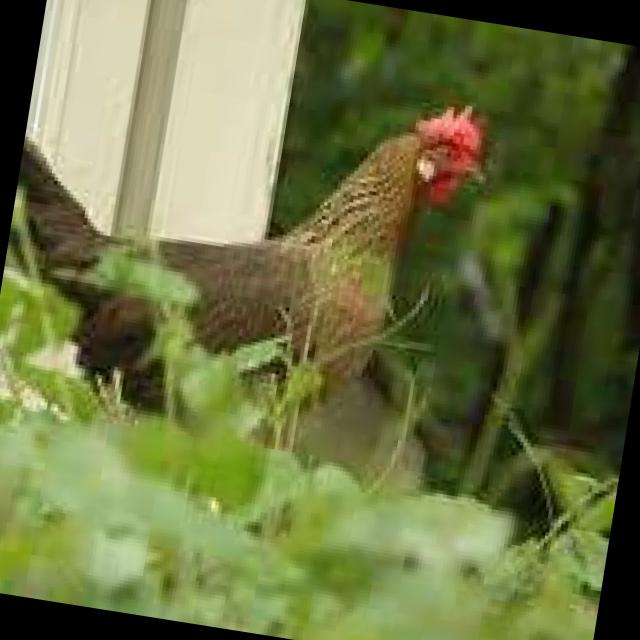animal: (0, 41, 491, 521)
